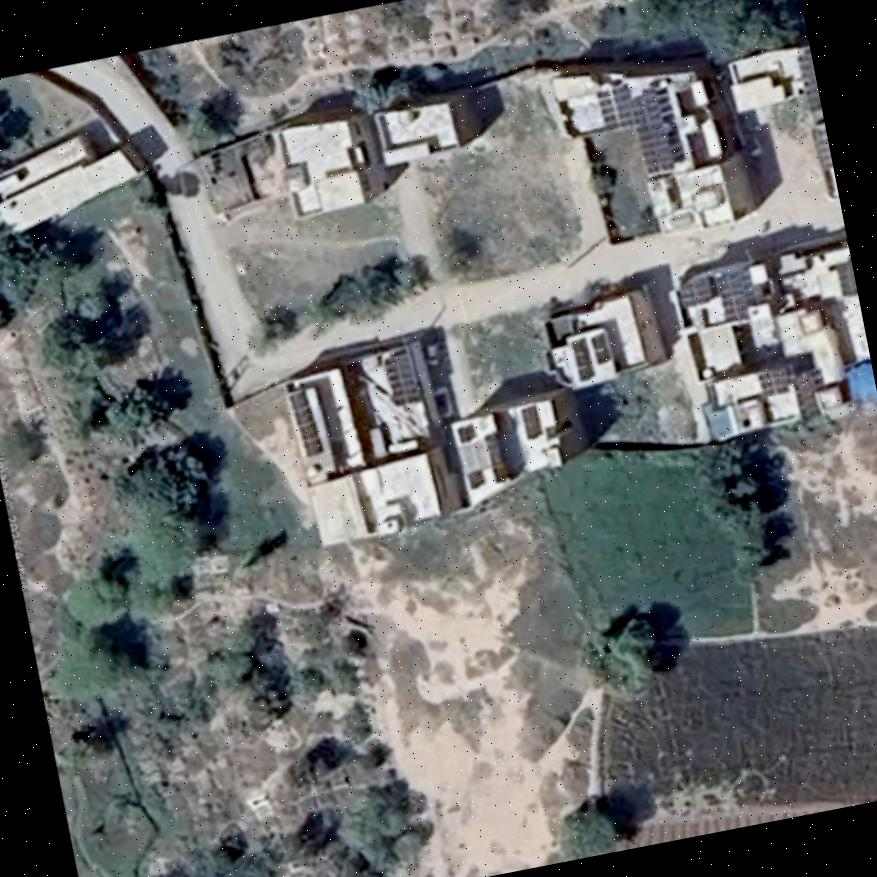Solarpanel: (631, 85, 673, 172), (288, 391, 323, 455), (715, 263, 749, 321), (384, 355, 419, 406), (598, 84, 634, 132), (793, 54, 821, 113), (758, 370, 788, 398), (679, 278, 710, 305)
